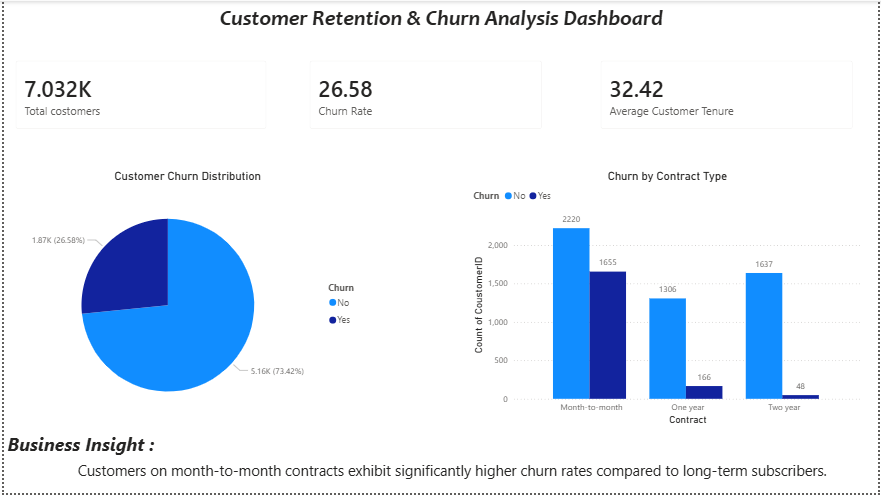

The dashboard page shown, as its layout file describes it:
{"tool":"powerbi","page":{"name":"Executive Summary Dashboard","canvas":[1280,720],"ordinal":0},"visuals":[{"type":"cardVisual","title":"Total costomers","fields":{"Data":["CountNonNull(Cleaned_Telco_Customer_Churn.customerID)"]},"box":[0,70.6,401.5,134.4],"z":0},{"type":"cardVisual","fields":{"Data":["Cleaned_Telco_Customer_Churn.Churn Rate"]},"box":[430,70.6,374.6,134.4],"z":1000},{"type":"cardVisual","fields":{"Data":["Avg(Cleaned_Telco_Customer_Churn.tenure)"]},"box":[856.7,70.6,403.1,134.4],"z":2000},{"type":"pieChart","title":"Customer Churn Distribution","fields":{"Category":["Cleaned_Telco_Customer_Churn.Churn"],"Y":["CountNonNull(Cleaned_Telco_Customer_Churn.customerID)"]},"box":[0,245.2,537.5,379.6],"z":3000},{"type":"clusteredColumnChart","title":"Churn by Contract Type","fields":{"Category":["Cleaned_Telco_Customer_Churn.Contract"],"Y":["CountNonNull(Cleaned_Telco_Customer_Churn.CoustomerID)"],"Series":["Cleaned_Telco_Customer_Churn.Churn"]},"box":[682,245.2,577.8,379.6],"z":4000},{"type":"textbox","box":[0,0,1280,70.6],"z":5000},{"type":"textbox","box":[0,624.9,1259.8,95.7],"z":6000}]}

Visuals, with their boxes in screenshot pixels (x1, y1, x2, y2), scaled from the page's 1280x720 canvas onto the 881x496 screenshot:
"Total costomers" cardVisual: region(0, 49, 276, 141)
cardVisual - Cleaned_Telco_Customer_Churn.Churn Rate: region(296, 49, 554, 141)
cardVisual - Avg(Cleaned_Telco_Customer_Churn.tenure): region(590, 49, 867, 141)
"Customer Churn Distribution" pieChart: region(0, 169, 370, 430)
"Churn by Contract Type" clusteredColumnChart: region(469, 169, 867, 430)
textbox: region(0, 0, 880, 49)
textbox: region(0, 430, 867, 495)
